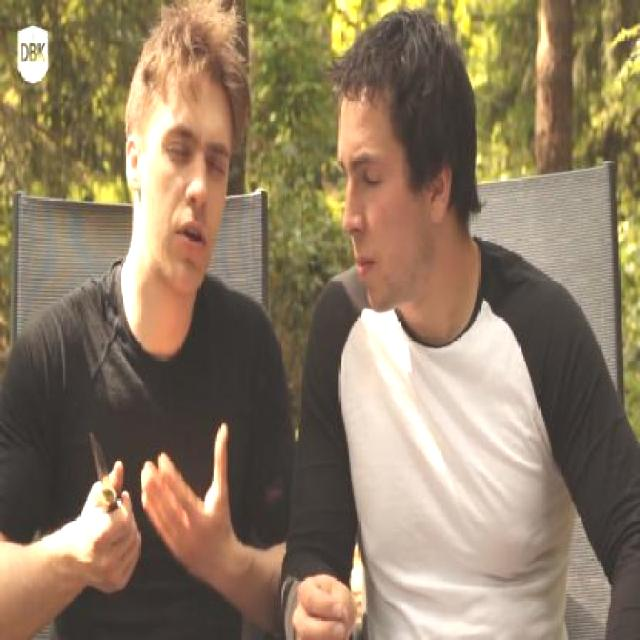knife: (75, 423, 138, 560)
